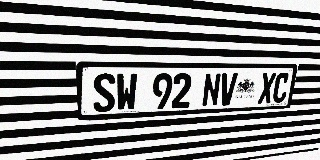2: (172, 73, 192, 108)
9: (152, 73, 173, 109)
C: (272, 73, 290, 103)
N: (201, 73, 221, 107)
S: (92, 73, 115, 113)
V: (218, 73, 238, 106)
W: (116, 73, 137, 111)
X: (257, 73, 276, 104)
